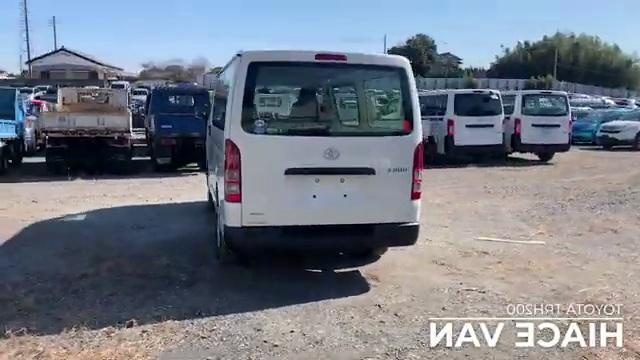van: (208, 53, 425, 248), (421, 88, 507, 163), (506, 86, 576, 159)
